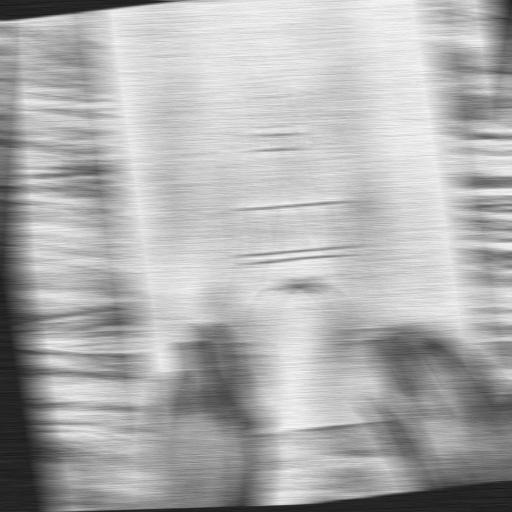bottom_left: (483, 406, 500, 418)
bottom_right: (144, 433, 165, 450)
eiffel-tower: (147, 33, 421, 382)
top_left: (421, 0, 438, 2)
